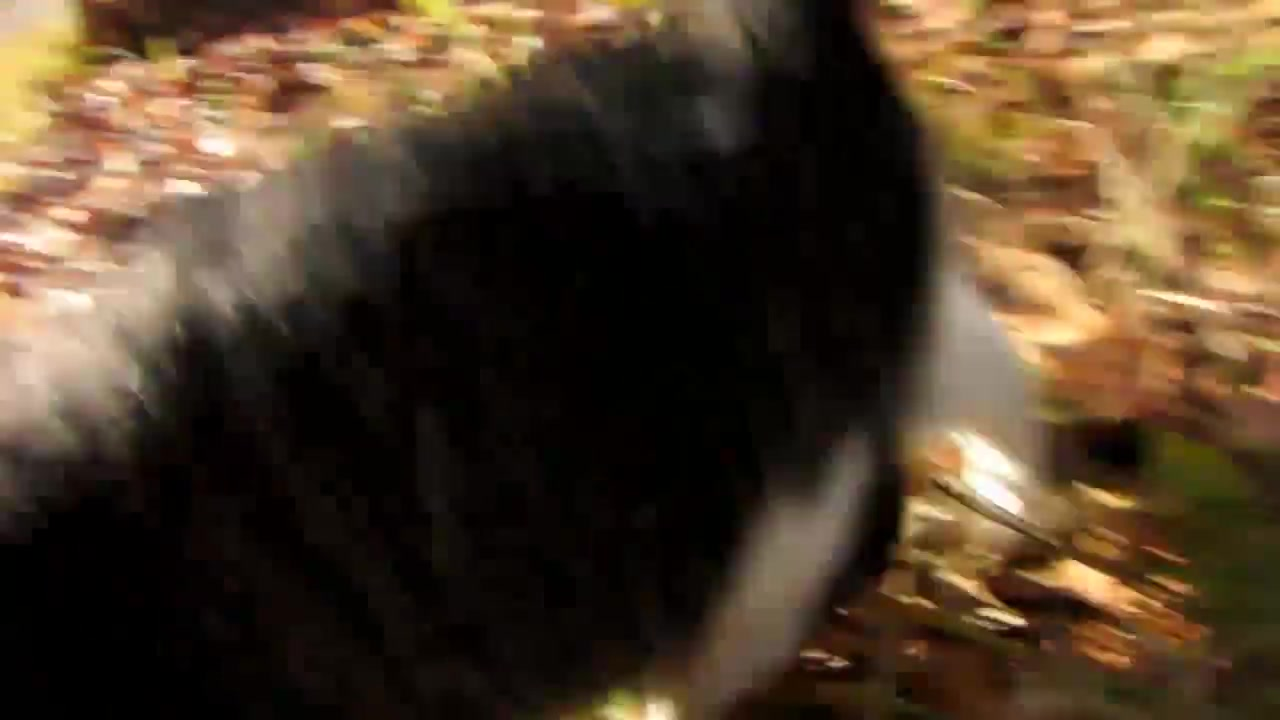cat: (1, 7, 1091, 720)
